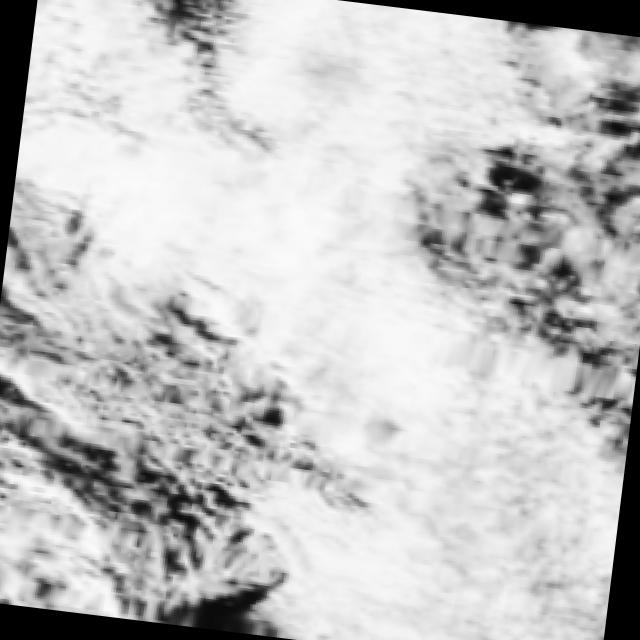CB: (382, 393, 628, 624), (268, 227, 470, 448), (312, 478, 575, 640), (12, 44, 218, 234), (209, 116, 388, 322), (288, 0, 495, 153)
